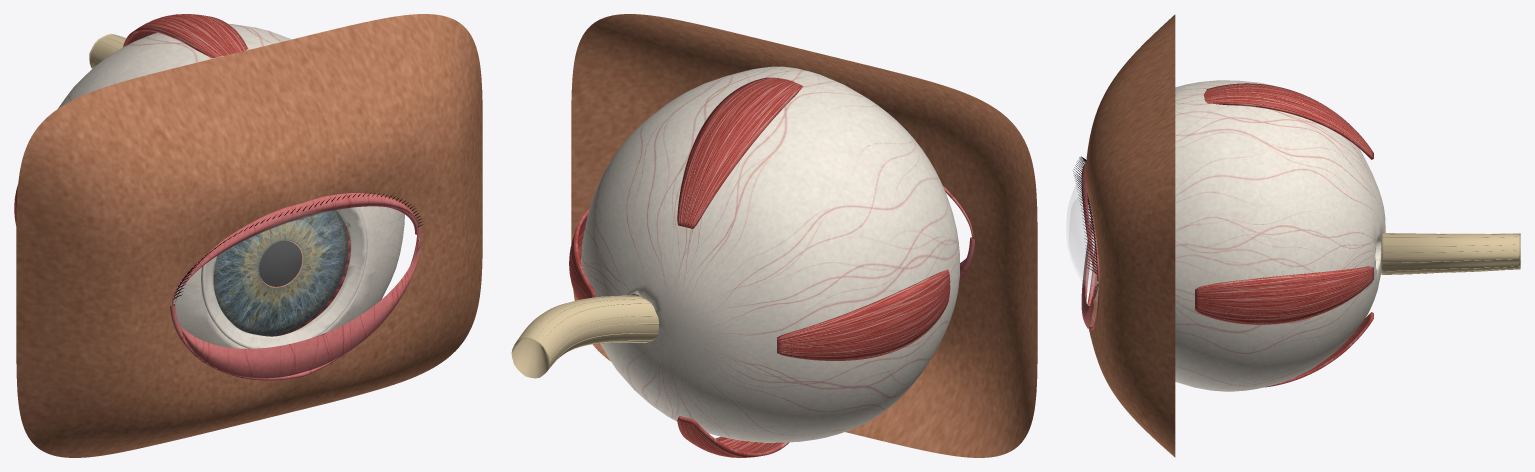
File: eye.glb
3 views of the same model, side by side, from view 1: azimuth 30°, elevation 25°; view 2: azimuth 150°, elevation 25°; view 3: azimuth 270°, elevation 25° (orthographic). The views are drawn at different scales.
Visible parts, largest first — view 1: Eye_orbital_skin, Eye_cornea, Eye_sclera, Eye_iris, Eye_conjunctiva, Eye_limbus, Eye_upper_conjunctiva, Eye_rectus_2, Eye_pupil, Eye_lid_margin, Eye_optic_nerve, Eye_lashes; view 2: Eye_sclera, Eye_orbital_skin, Eye_rectus_3, Eye_rectus_2, Eye_optic_nerve, Eye_rectus_4, Eye_rectus_1, Eye_optic_nerve_fibres, Eye_sclera_section; view 3: Eye_sclera, Eye_orbital_skin, Eye_rectus_1, Eye_optic_nerve, Eye_rectus_2, Eye_cornea, Eye_optic_nerve_fibres, Eye_rectus_4, Eye_conjunctiva, Eye_lashes, Eye_lid_margin, Eye_upper_conjunctiva.
Boxes of the visible parts, x1,y1,x2,y2 form: Eye_orbital_skin: (16, 14, 482, 457); Eye_cornea: (214, 210, 366, 336); Eye_sclera: (58, 23, 404, 348); Eye_iris: (213, 210, 348, 336); Eye_conjunctiva: (176, 237, 420, 378); Eye_limbus: (201, 207, 367, 348); Eye_upper_conjunctiva: (175, 193, 419, 302); Eye_rectus_2: (123, 14, 247, 58); Eye_pupil: (259, 241, 302, 286); Eye_lid_margin: (170, 207, 420, 380); Eye_optic_nerve: (89, 34, 126, 68); Eye_lashes: (173, 193, 422, 299); Eye_sclera: (581, 66, 959, 442); Eye_orbital_skin: (571, 14, 1037, 457); Eye_rectus_3: (777, 269, 950, 360); Eye_rectus_2: (677, 77, 803, 228); Eye_optic_nerve: (511, 296, 658, 378); Eye_rectus_4: (677, 415, 789, 457); Eye_rectus_1: (569, 206, 595, 299); Eye_optic_nerve_fibres: (515, 295, 659, 369); Eye_sclera_section: (616, 71, 820, 403); Eye_sclera: (1098, 80, 1385, 391); Eye_orbital_skin: (1085, 14, 1175, 457); Eye_rectus_1: (1195, 266, 1373, 324); Eye_optic_nerve: (1381, 233, 1520, 274); Eye_rectus_2: (1203, 83, 1373, 159); Eye_cornea: (1067, 176, 1097, 301); Eye_optic_nerve_fibres: (1381, 233, 1520, 274); Eye_rectus_4: (1265, 312, 1373, 387); Eye_conjunctiva: (1081, 220, 1098, 328); Eye_lashes: (1073, 156, 1097, 273); Eye_lid_margin: (1087, 190, 1099, 330); Eye_upper_conjunctiva: (1081, 162, 1096, 276).
Size of the model in its own units: 4.3 by 3.28 by 4.37.
17 materials, 8 textured.
